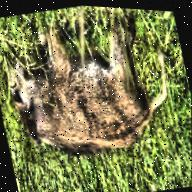boar: (0, 0, 178, 186)
